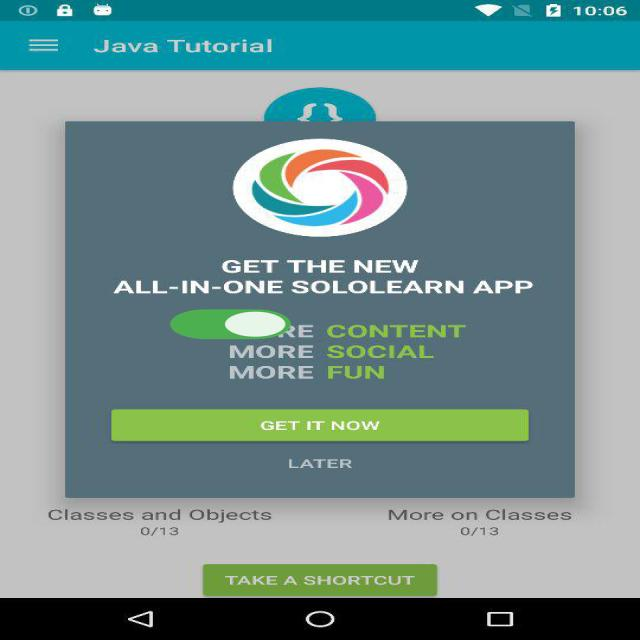social proof: (165, 298, 296, 353)
